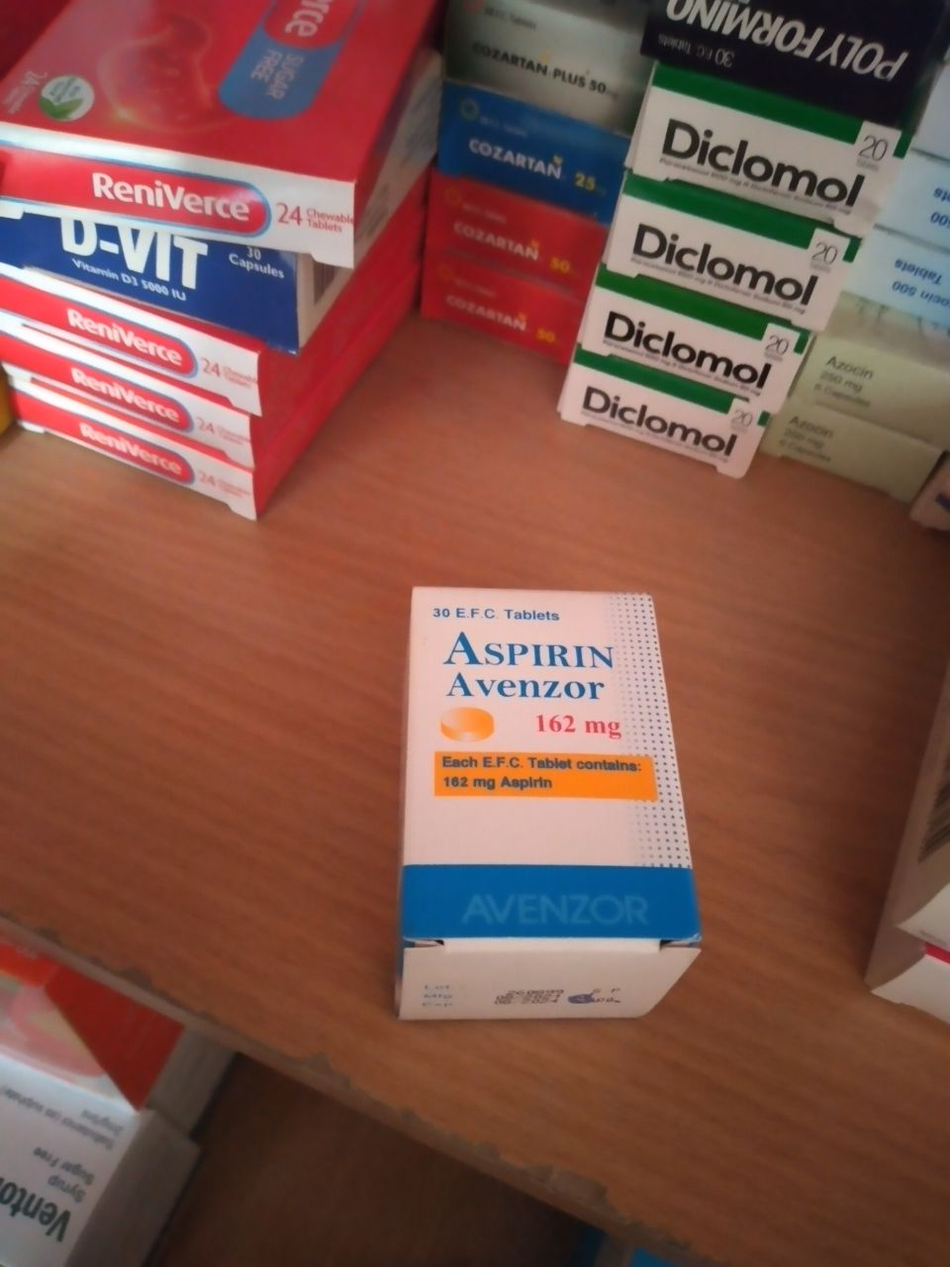Medicine: (386, 561, 716, 1072), (10, 0, 432, 251), (16, 205, 376, 353), (13, 267, 336, 416), (610, 178, 881, 350), (617, 73, 897, 221), (567, 274, 811, 406), (564, 363, 798, 485)
